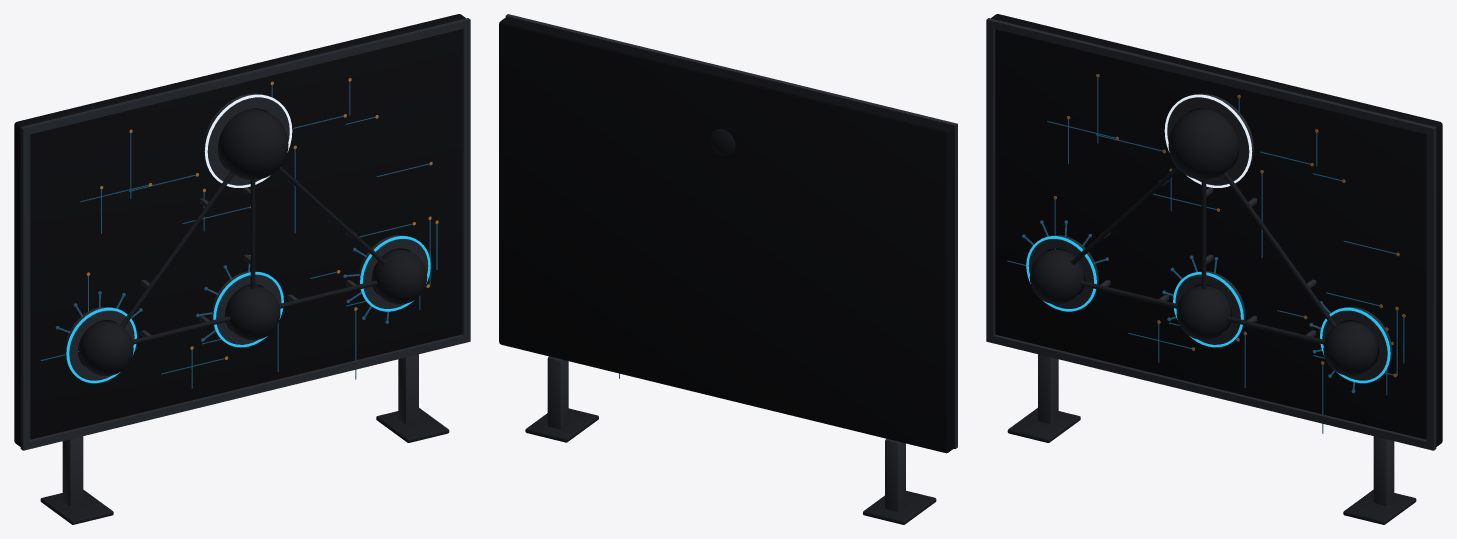
The model's file is neural_net.glb.
3 views of the same model, side by side, from view 1: azimuth 30°, elevation 25°; view 2: azimuth 150°, elevation 25°; view 3: azimuth 330°, elevation 25° (orthographic).
Parts seen in each view (by area): view 1: netBoard, neural_net, nodeOut, fiber2, fiber4, fiber3, fiber1, fiber0; view 2: netBoard, nodeOut; view 3: netBoard, neural_net, nodeOut, fiber4, fiber2, fiber3, fiber0, fiber1.
Part boxes in pixels (x1,y1,x2,y2): netBoard: [14, 14, 470, 524]; neural_net: [78, 249, 427, 375]; nodeOut: [218, 109, 288, 179]; fiber2: [120, 172, 233, 327]; fiber4: [278, 167, 385, 264]; fiber3: [250, 180, 255, 289]; fiber1: [279, 280, 377, 308]; fiber0: [132, 316, 230, 344]; netBoard: [499, 14, 957, 524]; nodeOut: [710, 128, 735, 156]; netBoard: [986, 14, 1442, 524]; neural_net: [1029, 249, 1378, 375]; nodeOut: [1168, 109, 1238, 179]; fiber4: [1223, 172, 1336, 327]; fiber2: [1071, 167, 1178, 264]; fiber3: [1201, 180, 1206, 289]; fiber0: [1079, 280, 1177, 308]; fiber1: [1226, 316, 1324, 344].
Size of the model in its own units: 3.2 by 2.7 by 0.52.
